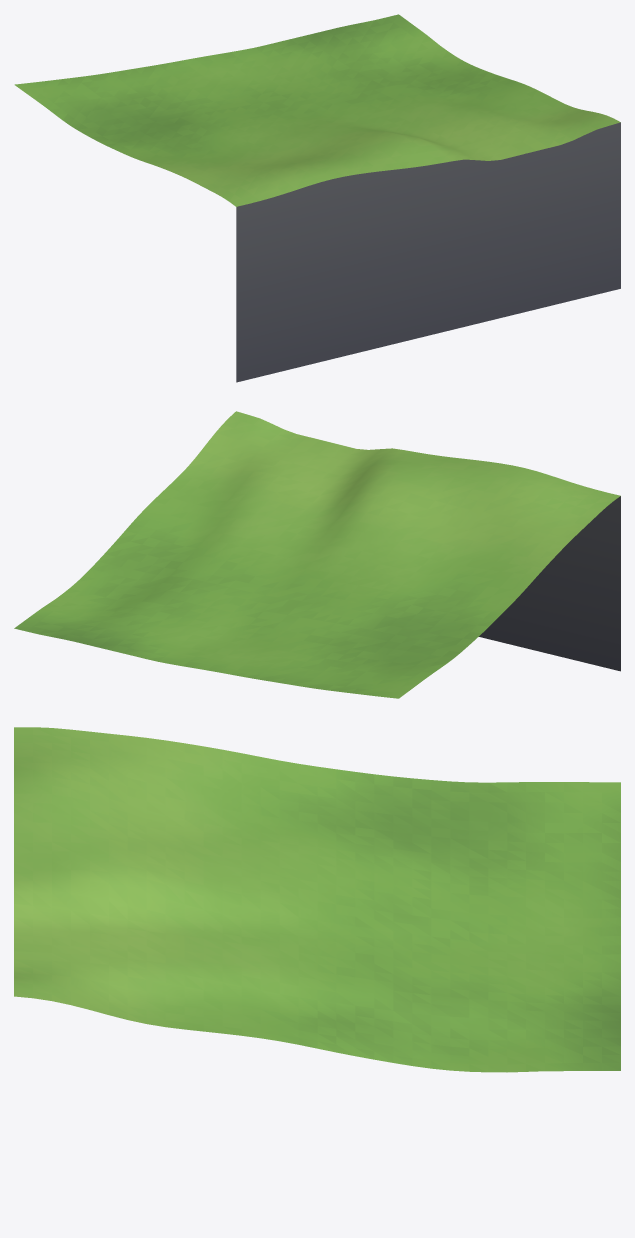
The model's file is terrain_r0_c2.glb.
The picture shows the model from 3 angles, top to bottom: view 1: azimuth 30°, elevation 25°; view 2: azimuth 150°, elevation 25°; view 3: azimuth 270°, elevation 25°; orthographic projection. The views are drawn at different scales.
Visible parts, largest first — view 1: terrain_r0_c2; view 2: terrain_r0_c2; view 3: terrain_r0_c2.
Part boxes in pixels (x1,y1,x2,y2): terrain_r0_c2: [14, 14, 620, 382]; terrain_r0_c2: [14, 411, 620, 698]; terrain_r0_c2: [14, 727, 620, 1072].
Size of the model in its own units: 128 by 57.4 by 128.
Materials: 1 (1 with a texture image).
